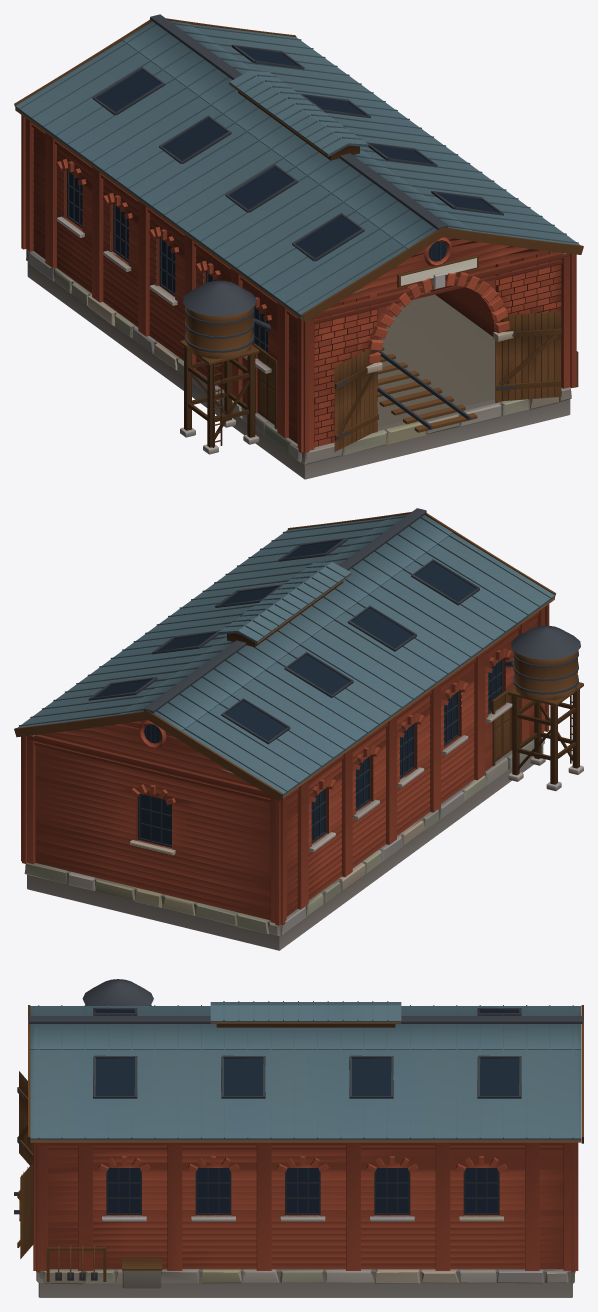
File: engine-shed.glb
3 renders of one model, top to bottom at view 1: azimuth 30°, elevation 25°; view 2: azimuth 150°, elevation 25°; view 3: azimuth 270°, elevation 25°, orthographic. The views are drawn at different scales.
Visible parts, largest first — view 1: Engine shed Tin roof, Engine shed Brick, Engine shed Plaster, Engine shed Wood, Engine shed Iron, Engine shed Window glow; view 2: Engine shed Brick, Engine shed Tin roof, Engine shed Plaster, Engine shed Wood, Engine shed Iron, Engine shed Window glow; view 3: Engine shed Tin roof, Engine shed Brick, Engine shed Plaster, Engine shed Window glow, Engine shed Iron, Engine shed Wood.
Part boxes in pixels (x1=…): Engine shed Tin roof: x1=15, y1=21, x2=580, y2=319; Engine shed Brick: x1=21, y1=115, x2=576, y2=453; Engine shed Plaster: x1=26, y1=216, x2=571, y2=479; Engine shed Wood: x1=14, y1=18, x2=583, y2=451; Engine shed Iron: x1=67, y1=14, x2=515, y2=438; Engine shed Window glow: x1=69, y1=47, x2=498, y2=352; Engine shed Brick: x1=21, y1=604, x2=549, y2=925; Engine shed Tin roof: x1=17, y1=514, x2=554, y2=798; Engine shed Plaster: x1=24, y1=702, x2=583, y2=950; Engine shed Wood: x1=14, y1=512, x2=583, y2=800; Engine shed Iron: x1=88, y1=508, x2=580, y2=847; Engine shed Window glow: x1=94, y1=541, x2=500, y2=845; Engine shed Tin roof: x1=30, y1=1001, x2=581, y2=1140; Engine shed Brick: x1=33, y1=1142, x2=578, y2=1272; Engine shed Plaster: x1=36, y1=1215, x2=575, y2=1297; Engine shed Window glow: x1=95, y1=1010, x2=519, y2=1212; Engine shed Iron: x1=14, y1=979, x2=582, y2=1280; Engine shed Wood: x1=17, y1=1005, x2=583, y2=1281.
Bounding box in the file's own units: 13.78 × 8.57 × 19.14.
